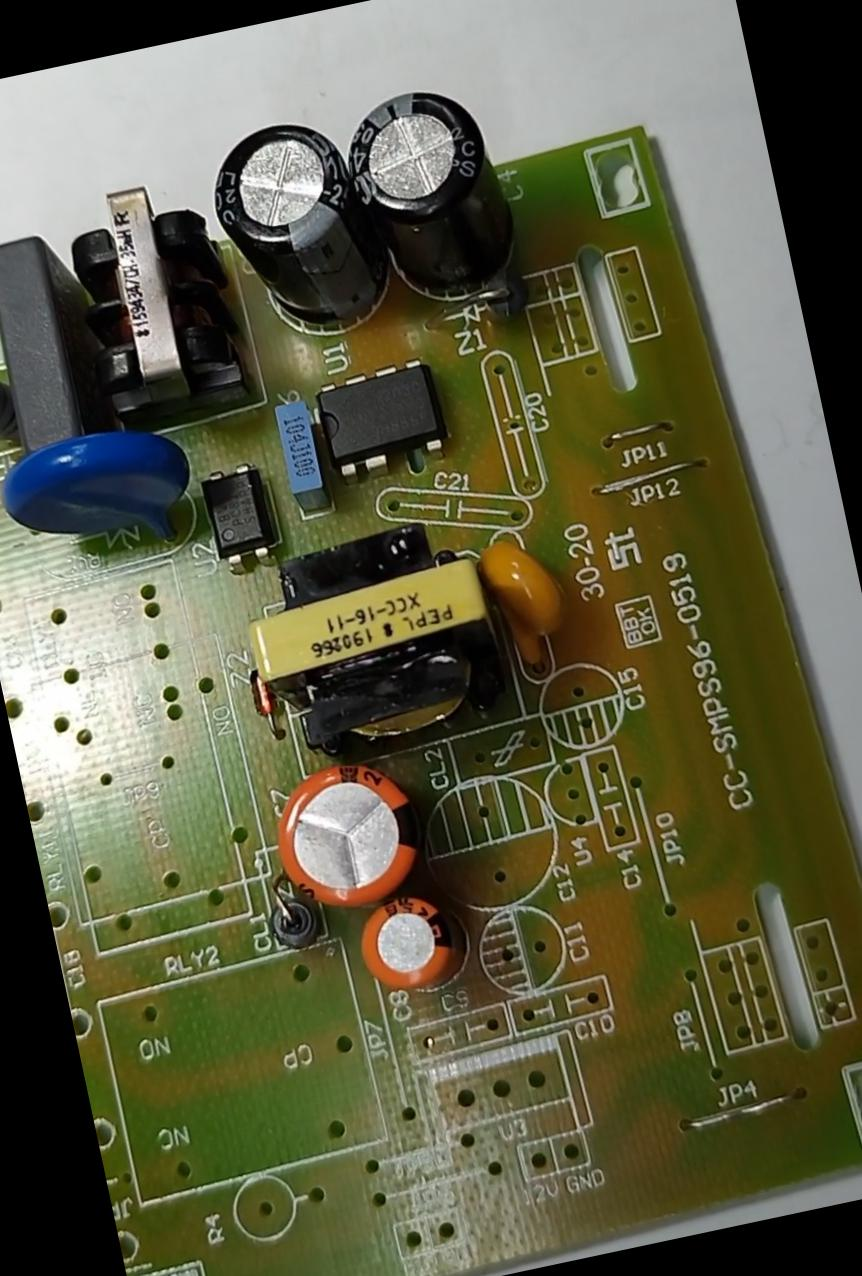Cap1: (252, 743, 434, 917)
Cap2: (350, 885, 464, 1004)
Cap3: (192, 104, 388, 356)
Cap4: (334, 69, 526, 316)
MOSFET: (306, 354, 456, 481)
Mov: (0, 408, 209, 585)
Resistor: (0, 347, 17, 448)
Transformer: (228, 506, 518, 765), (49, 168, 246, 426)
